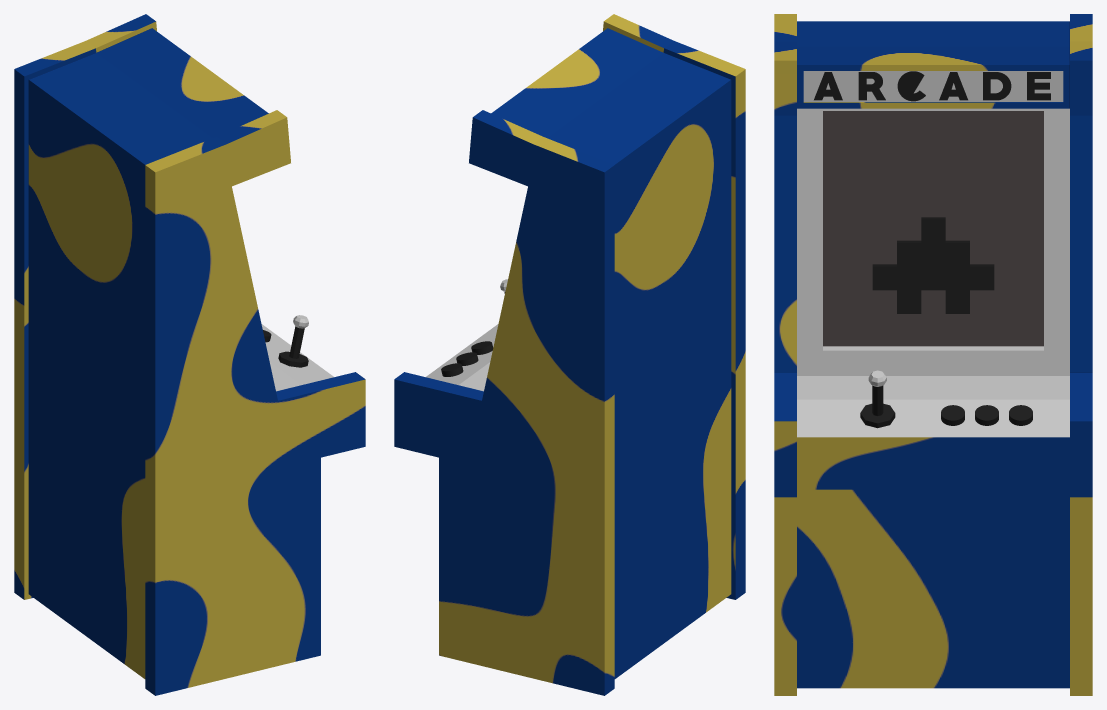
The model's file is GameMachine.fbx.
3 renders of one model, left to right at view 1: azimuth 30°, elevation 25°; view 2: azimuth 150°, elevation 25°; view 3: azimuth 270°, elevation 25°, orthographic. The views are drawn at different scales.
Visible parts, largest first — view 1: GameMachine; view 2: GameMachine; view 3: GameMachine.
Boxes of the visible parts, x1,y1,x2,y2 form: GameMachine: (14,14,365,695); GameMachine: (394,14,745,695); GameMachine: (774,14,1092,695).
Bounding box in the file's own units: 79.43 × 197 × 92.28.
